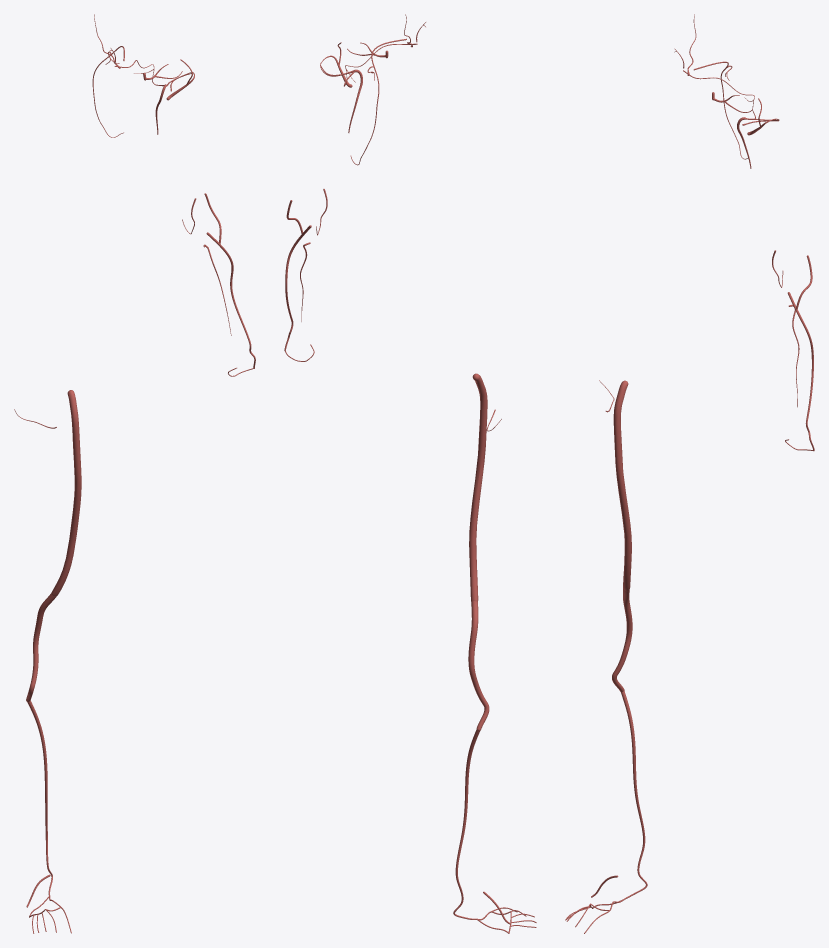
The model's file is other-2.glb.
3 views of the same model, side by side, from view 1: azimuth 30°, elevation 25°; view 2: azimuth 150°, elevation 25°; view 3: azimuth 330°, elevation 25° (orthographic). The views are drawn at different scales.
Visible parts, largest first — view 1: FJ2143, FJ2170, FJ2172; view 2: FJ2143, FJ2170, FJ2172; view 3: FJ2143, FJ2172, FJ2170.
Boxes of the visible parts, x1=… form: FJ2143: x1=51, y1=390, x2=81, y2=596; FJ2170: x1=26, y1=593, x2=56, y2=701; FJ2172: x1=27, y1=700, x2=52, y2=895; FJ2143: x1=469, y1=373, x2=487, y2=601; FJ2170: x1=468, y1=601, x2=489, y2=731; FJ2172: x1=453, y1=730, x2=479, y2=919; FJ2143: x1=613, y1=380, x2=631, y2=591; FJ2172: x1=621, y1=691, x2=647, y2=899; FJ2170: x1=612, y1=589, x2=632, y2=692.
Size of the model in its own units: 0.4122 by 1.49 by 0.1831.
